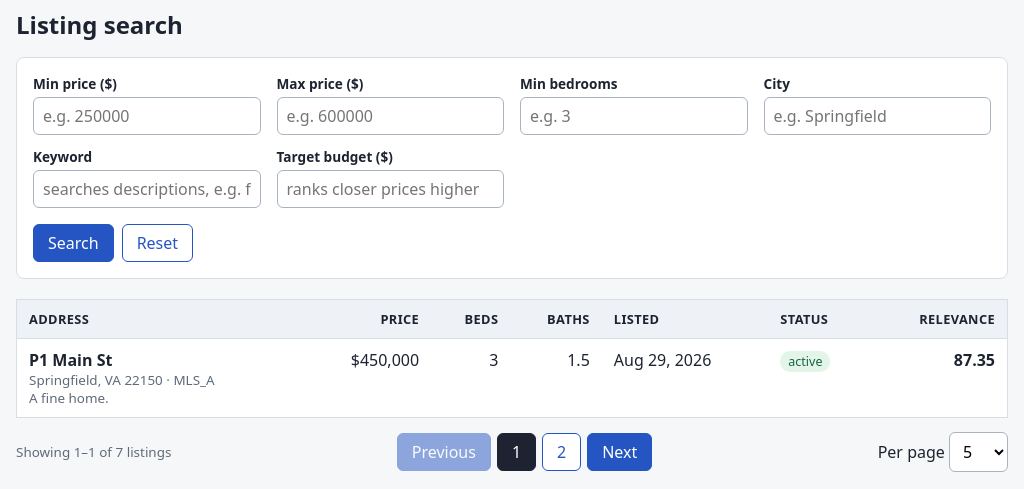
Test: App › pages forward and back, disabling Previous on the first page and Next on the last
The image size is (1024, 489).
Check: the text "P1 Main St" is shown, box [29,349,112,371]
Check: the button "Previous" is disabled, box [397,433,491,471]
Click the button "Next": (620, 452) [587,433,652,471]
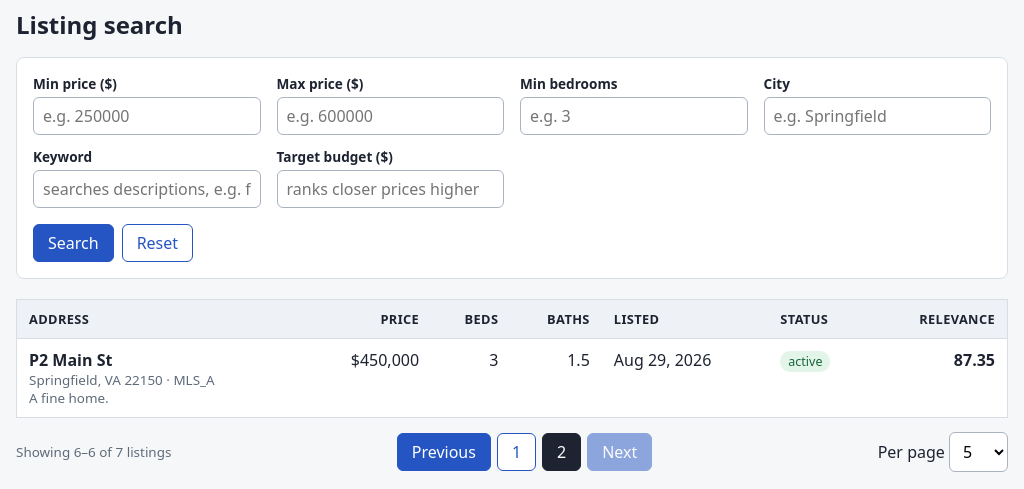
Check: the text "P2 Main St" is shown, box [29,349,112,371]
Check: the button "Next" is disabled, box [587,433,652,471]
Check: the text "Showing 6–6 of 7 listings" is shown, box [16,443,171,461]
Click the button "Previous": (444, 452) [397,433,491,471]
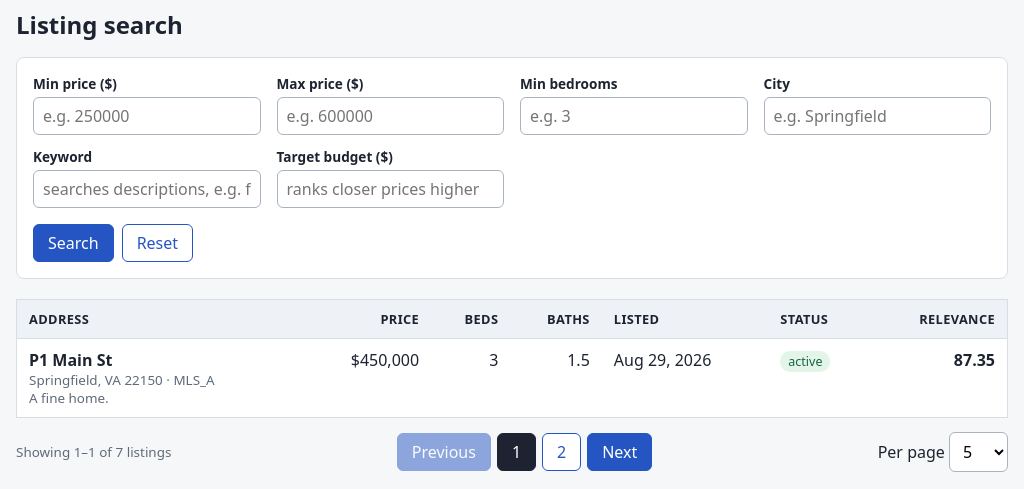
Check: the text "P1 Main St" is shown, box [29,349,112,371]
